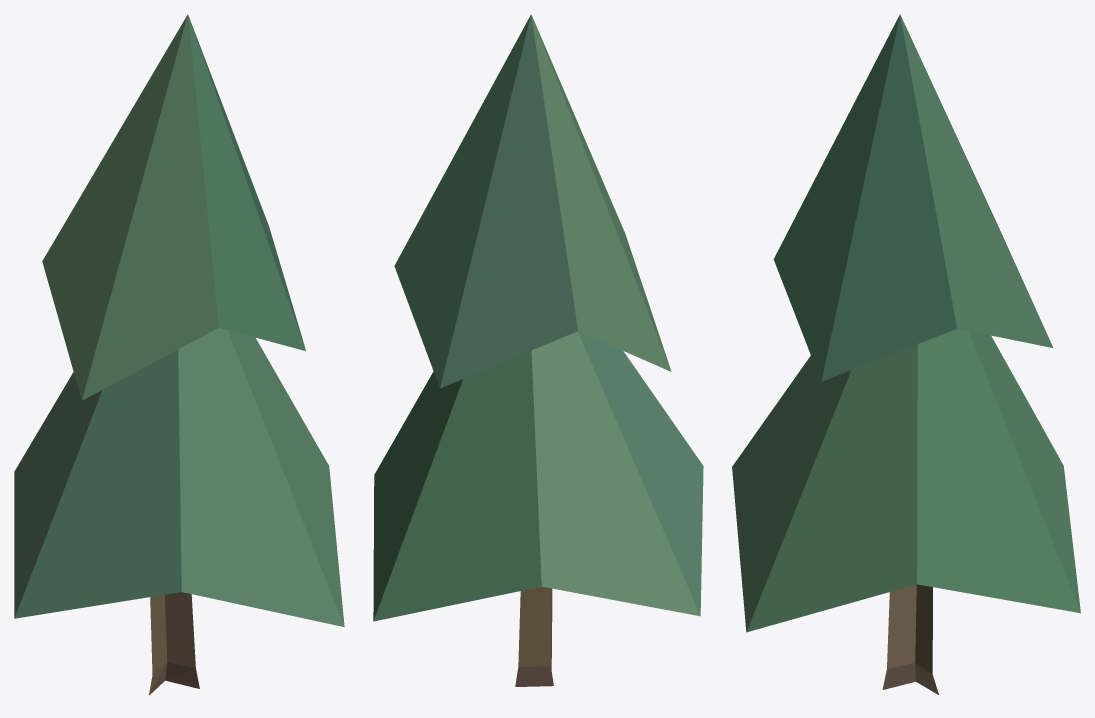
Rendered from Tree_Pine_03_Far.glb.
3 renders of one model, left to right at view 1: azimuth 30°, elevation 25°; view 2: azimuth 150°, elevation 25°; view 3: azimuth 270°, elevation 25°, orthographic.
Visible parts, largest first — view 1: Tree_Pine_03_Far; view 2: Tree_Pine_03_Far; view 3: Tree_Pine_03_Far.
Boxes of the visible parts, x1=… form: Tree_Pine_03_Far: x1=14, y1=14, x2=344, y2=695; Tree_Pine_03_Far: x1=373, y1=14, x2=703, y2=686; Tree_Pine_03_Far: x1=732, y1=14, x2=1080, y2=694.
Bounding box in the file's own units: 4.8 × 9.7 × 4.49.
